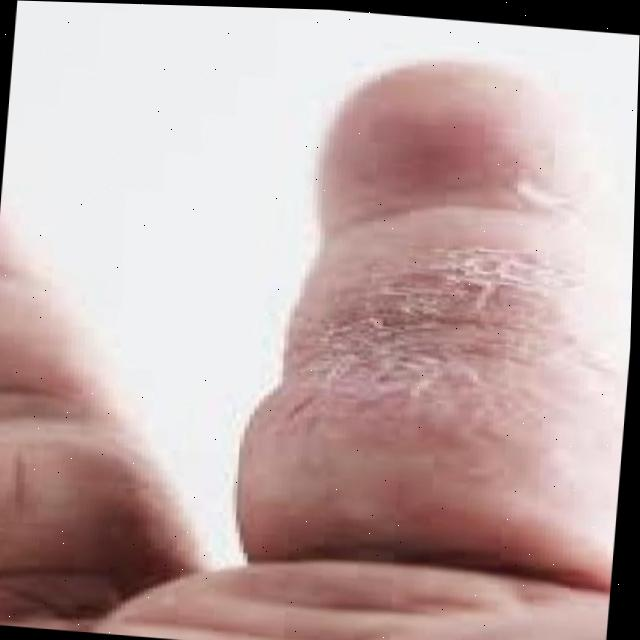Eczema: (306, 221, 531, 492)
